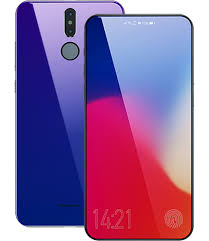lenovo: (80, 11, 194, 241)
